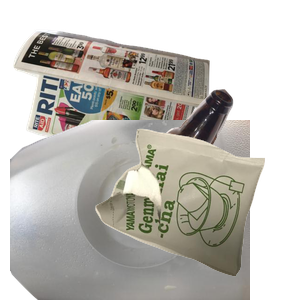glass: (130, 87, 300, 267)
paper: (11, 27, 213, 185)
plastic: (10, 120, 250, 300)
trash: (93, 126, 300, 300)
